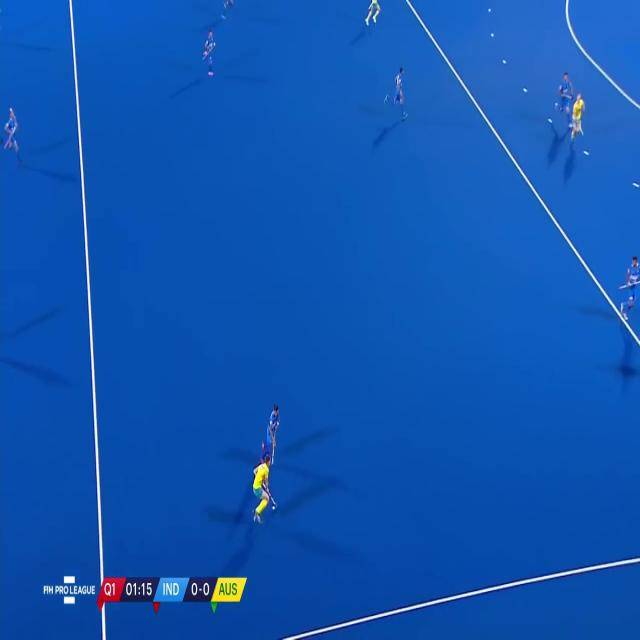ball: (271, 501, 278, 514)
